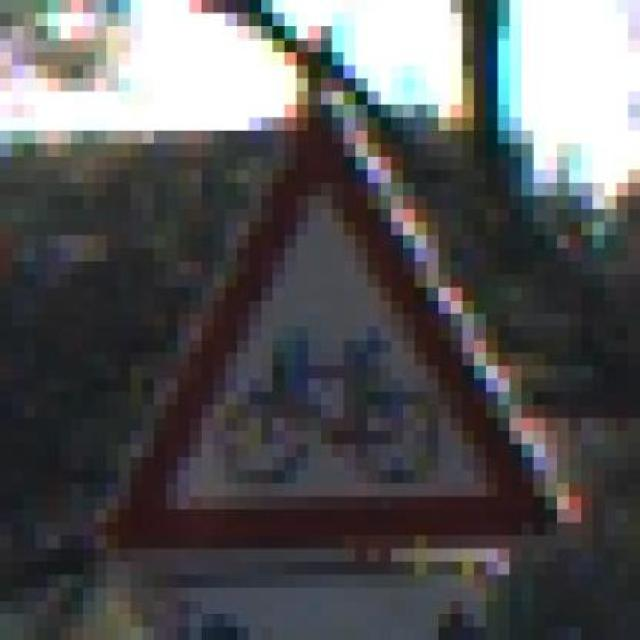CYCLE ROUTE AHEAD WARNING: (82, 78, 593, 550)
